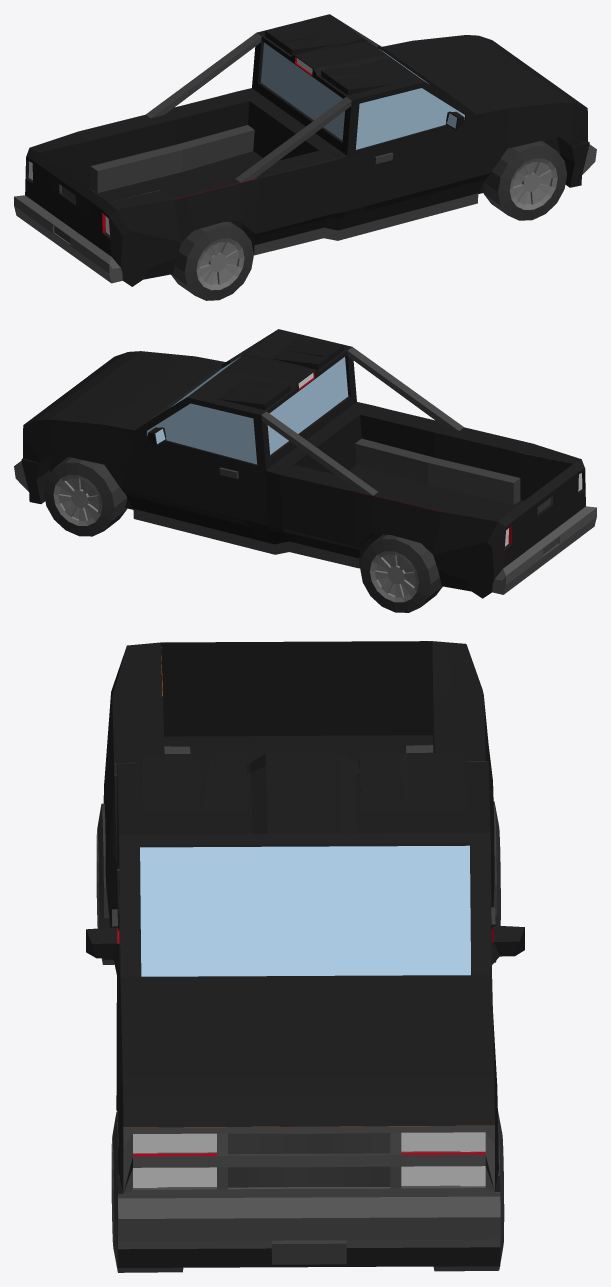
File: PickupBlack.fbx
The picture shows the model from 3 angles, top to bottom: view 1: azimuth 30°, elevation 25°; view 2: azimuth 150°, elevation 25°; view 3: azimuth 270°, elevation 25°; orthographic projection. The views are drawn at different scales.
Parts seen in each view (by area): view 1: Cube, Wheel.001, Wheel; view 2: Cube, Wheel.003, Wheel.002; view 3: Cube, Wheel, Wheel.001, Wheel.003.
Boxes of the visible parts, x1,y1,x2,y2 form: Cube: (14, 14, 596, 286); Wheel.001: (483, 141, 567, 220); Wheel: (171, 221, 253, 300); Cube: (14, 329, 596, 598); Wheel.003: (43, 457, 127, 536); Wheel.002: (360, 534, 442, 612); Cube: (86, 641, 524, 1267); Wheel: (96, 803, 114, 964); Wheel.001: (111, 1111, 183, 1272); Wheel.003: (433, 1111, 504, 1271).
Size of the model in its own units: 490 by 161 by 190.
